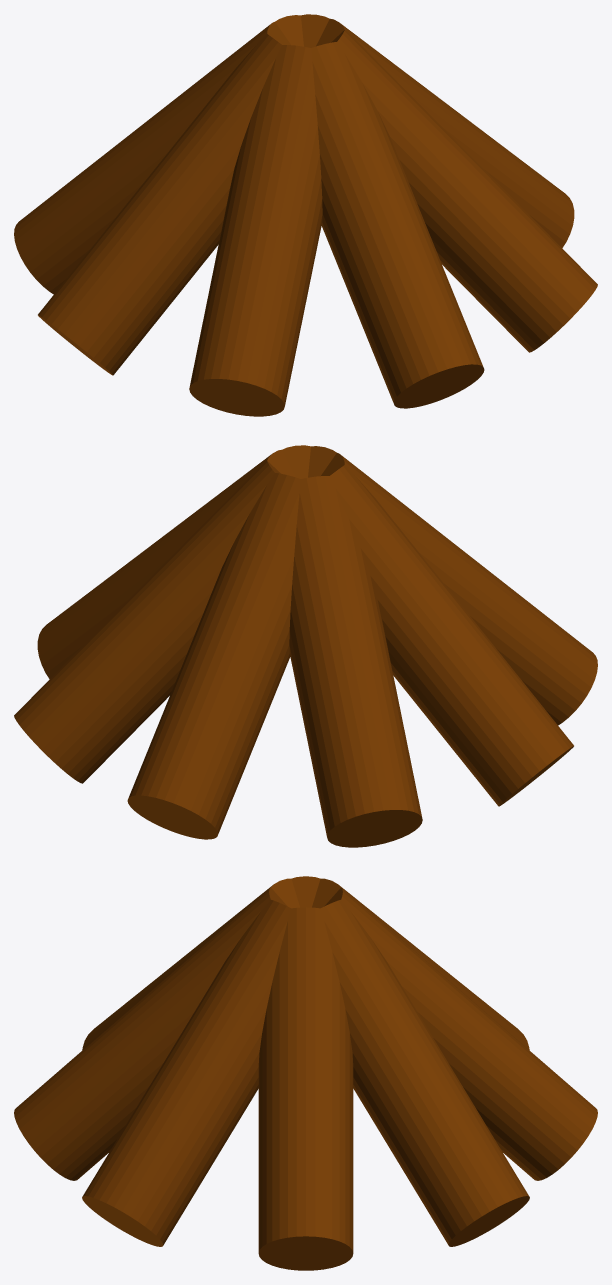
File: campfire.glb
The picture shows the model from 3 angles, top to bottom: view 1: azimuth 30°, elevation 25°; view 2: azimuth 150°, elevation 25°; view 3: azimuth 270°, elevation 25°; orthographic projection. The views are drawn at different scales.
Parts seen in each view (by area): view 1: Cylinder.006, Cylinder.002, Cylinder.001, Cylinder.007, Cylinder.005, Cylinder.003, Cylinder.004, Cylinder; view 2: Cylinder.005, Cylinder, Cylinder.001, Cylinder.004, Cylinder.006, Cylinder.003, Cylinder.007, Cylinder.002; view 3: Cylinder.003, Cylinder.004, Cylinder.007, Cylinder, Cylinder.002, Cylinder.005, Cylinder.006, Cylinder.001.
Part boxes in pixels (x1,y1,x2,y2): Cylinder.006: (189, 45, 322, 416); Cylinder.002: (311, 42, 484, 408); Cylinder.001: (38, 34, 281, 375); Cylinder.007: (331, 30, 597, 352); Cylinder.005: (14, 22, 290, 294); Cylinder.003: (316, 18, 574, 248); Cylinder.004: (301, 14, 329, 47); Cylinder: (275, 15, 303, 46); Cylinder.005: (289, 476, 422, 847); Cylinder: (127, 473, 300, 839); Cylinder.001: (330, 465, 573, 806); Cylinder.004: (14, 461, 280, 783); Cylinder.006: (321, 453, 597, 725); Cylinder.003: (37, 449, 295, 679); Cylinder.007: (282, 445, 310, 478); Cylinder.002: (308, 446, 336, 477); Cylinder.003: (258, 907, 353, 1270); Cylinder.004: (320, 900, 529, 1246); Cylinder.007: (82, 900, 291, 1246); Cylinder: (324, 887, 597, 1180); Cylinder.002: (14, 887, 287, 1180); Cylinder.005: (312, 878, 529, 1049); Cylinder.006: (82, 878, 299, 1049); Cylinder.001: (291, 876, 320, 907).
Bounding box in the file's own units: 2.22 × 1.19 × 2.22.
